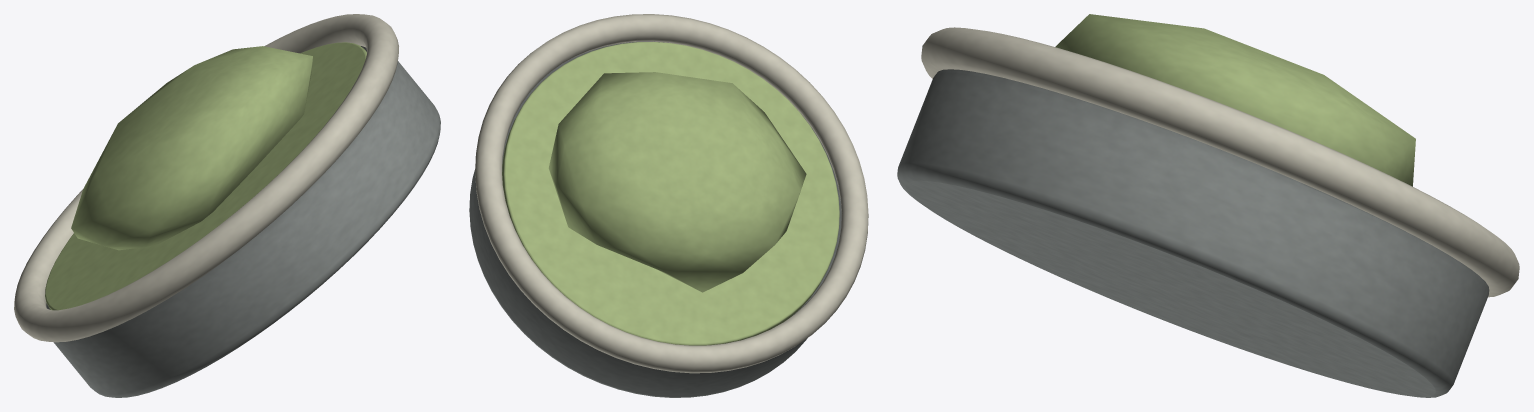
3 views of the same model, side by side, from view 1: azimuth 30°, elevation 25°; view 2: azimuth 150°, elevation 25°; view 3: azimuth 270°, elevation 25° (orthographic). The views are drawn at different scales.
Visible parts, largest first — view 1: Thick-walled sample vessel; view 2: Thick-walled sample vessel; view 3: Thick-walled sample vessel.
Part boxes in pixels (x1,y1,x2,y2): Thick-walled sample vessel: (14, 14, 440, 397); Thick-walled sample vessel: (469, 14, 868, 397); Thick-walled sample vessel: (897, 14, 1519, 397).
Bounding box in the file's own units: 0.9707 × 0.7871 × 1.
1 material, 1 textured.
